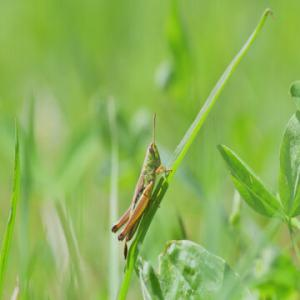locust: (114, 125, 185, 252)
